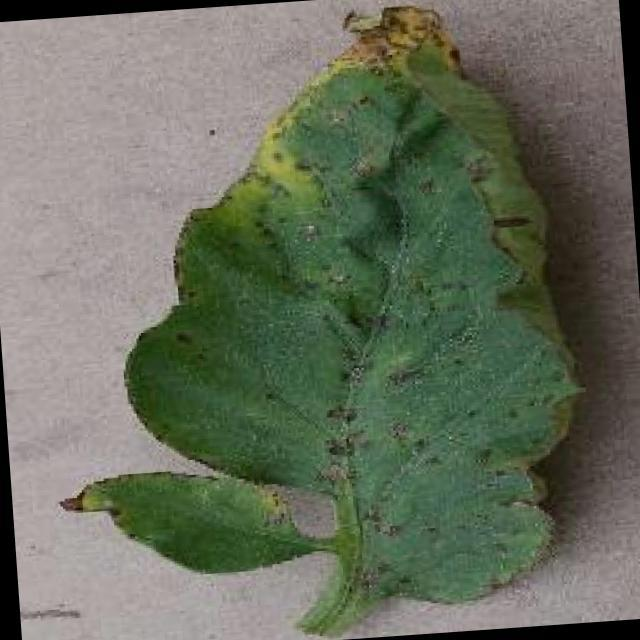Tomato bacterial spot leaf: (95, 0, 597, 633), (55, 458, 298, 596)
